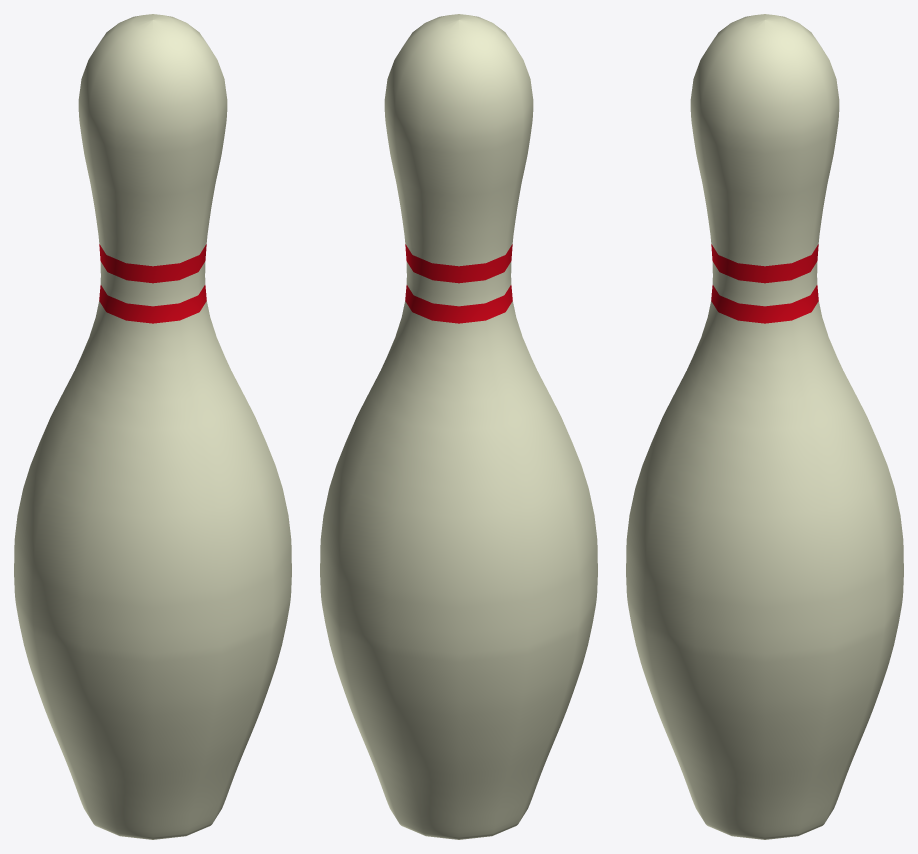
Rendered from Pin Low Poly.fbx.
The picture shows the model from 3 angles, left to right: view 1: azimuth 30°, elevation 25°; view 2: azimuth 150°, elevation 25°; view 3: azimuth 270°, elevation 25°; orthographic projection.
Parts seen in each view (by area): view 1: Pin Low Poly; view 2: Pin Low Poly; view 3: Pin Low Poly.
Boxes of the visible parts, <box> form: Pin Low Poly: <box>14,14,291,839</box>; Pin Low Poly: <box>320,14,597,839</box>; Pin Low Poly: <box>626,14,903,839</box>.
Size of the model in its own units: 12.11 by 38.1 by 12.11.
